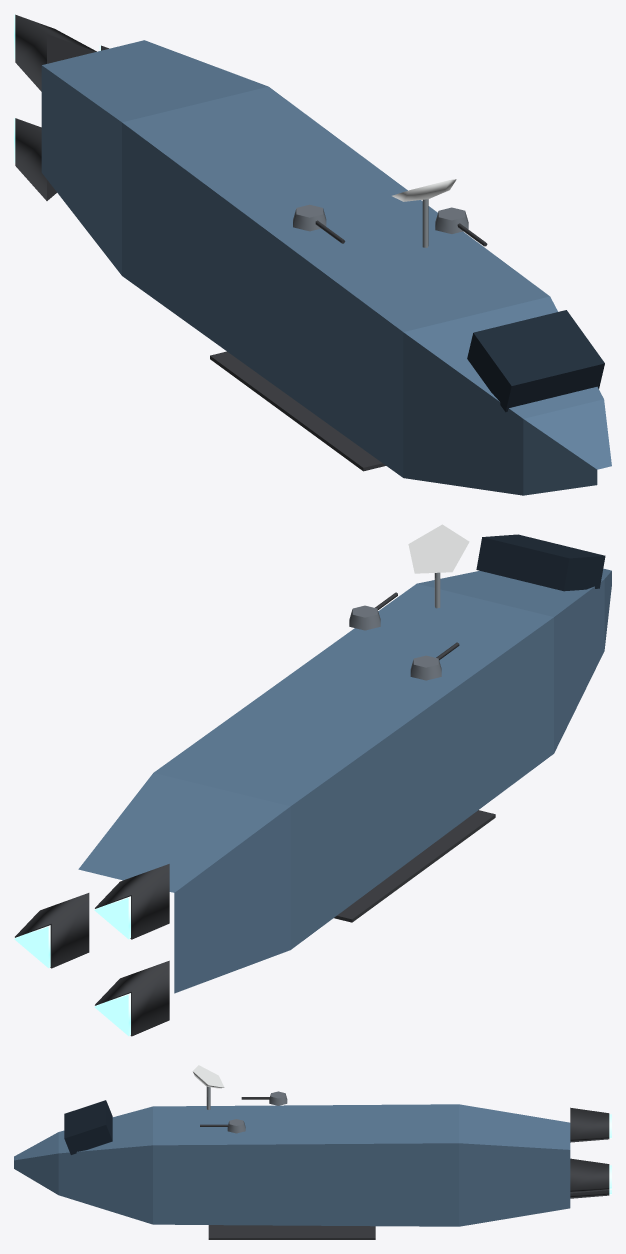
The model's file is space_ship_transport_mk5_lod2.glb.
3 renders of one model, top to bottom at view 1: azimuth 30°, elevation 25°; view 2: azimuth 150°, elevation 25°; view 3: azimuth 270°, elevation 25°, orthographic. The views are drawn at different scales.
Visible parts, largest first — view 1: body, hangar_door, engine_1, engine_2, antenna_0, turret_0, turret_1; view 2: body, engine_0, engine_1, engine_2, hangar_door, antenna_0, turret_1, turret_0; view 3: body, hangar_door, engine_0, engine_1, antenna_0, turret_0, turret_1, engine_2.
Part boxes in pixels (x1,y1,x2,y2): body: (41,40,611,495); hangar_door: (210,351,385,471); engine_1: (14,14,96,91); engine_2: (14,118,56,200); antenna_0: (392,179,456,247); turret_0: (435,207,487,246); turret_1: (293,204,345,243); body: (78,534,611,993); engine_0: (14,893,89,968); engine_1: (94,864,169,939); engine_2: (94,960,169,1036); hangar_door: (334,810,495,922); antenna_0: (408,524,469,608); turret_1: (410,642,459,680); turret_0: (349,592,397,630); body: (14,1100,570,1226); hangar_door: (208,1225,375,1239); engine_0: (570,1158,611,1193); engine_1: (570,1107,611,1142); antenna_0: (192,1065,224,1109); turret_0: (200,1119,245,1133); turret_1: (241,1091,287,1105); engine_2: (570,1189,611,1198).
Bounding box in the file's own units: 4.98 × 8.18 × 28.63.
